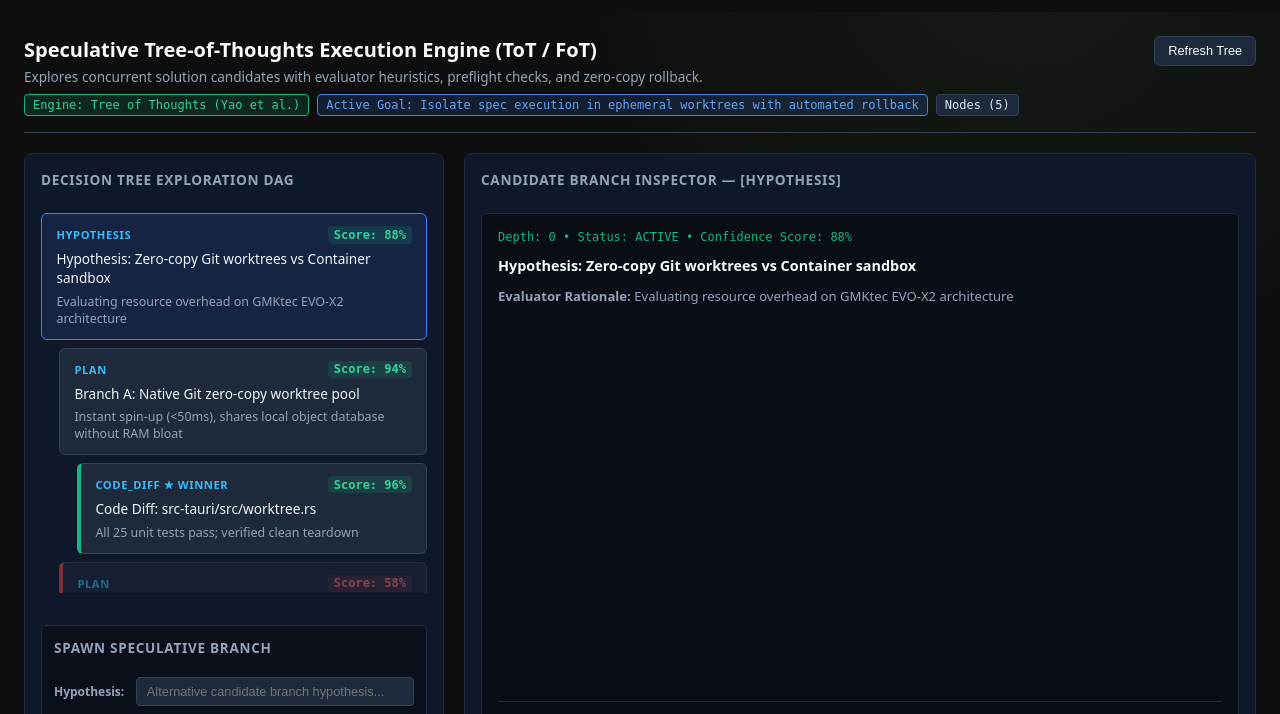
Test case: ThoughtTreePanel Component › prunes and promotes candidate branches
The image size is (1280, 714).
Click the text "Branch A: Native Git zero-copy worktree pool" at (217, 393), box [74, 384, 360, 402]
(page scrolled)
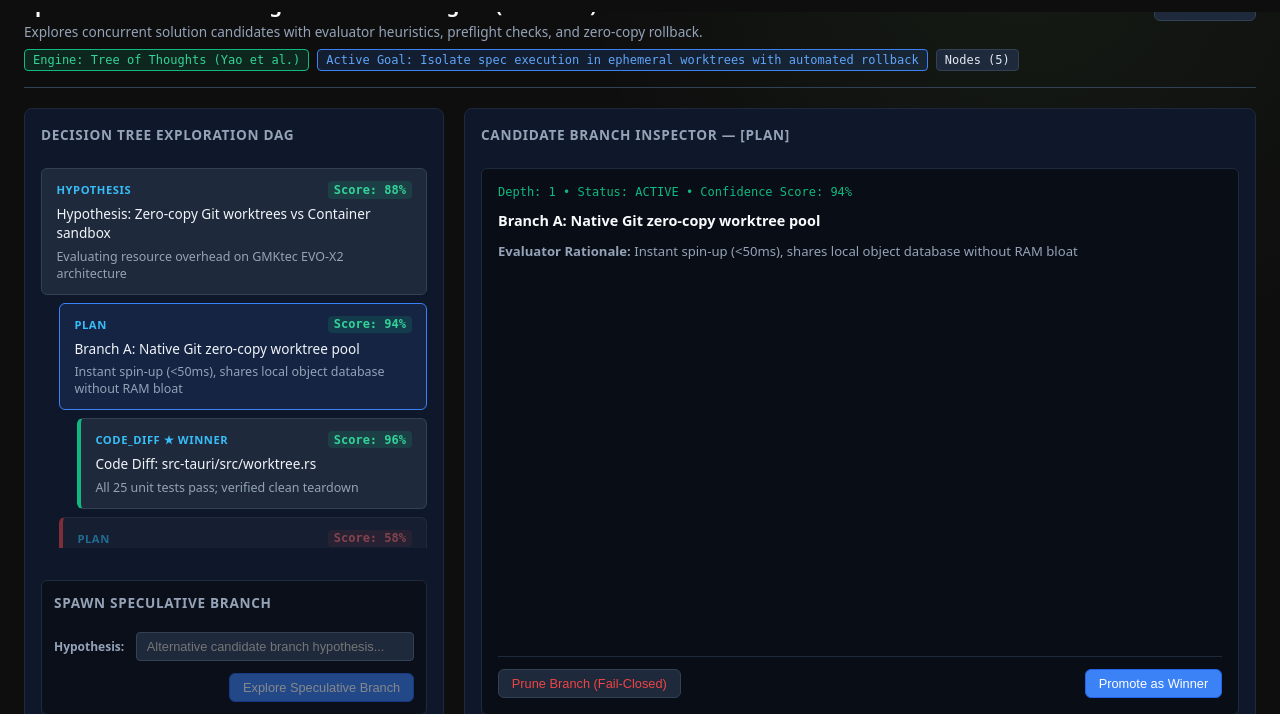
Click the button with test id "btn-promote-branch" at (1153, 684), box [1085, 669, 1222, 698]
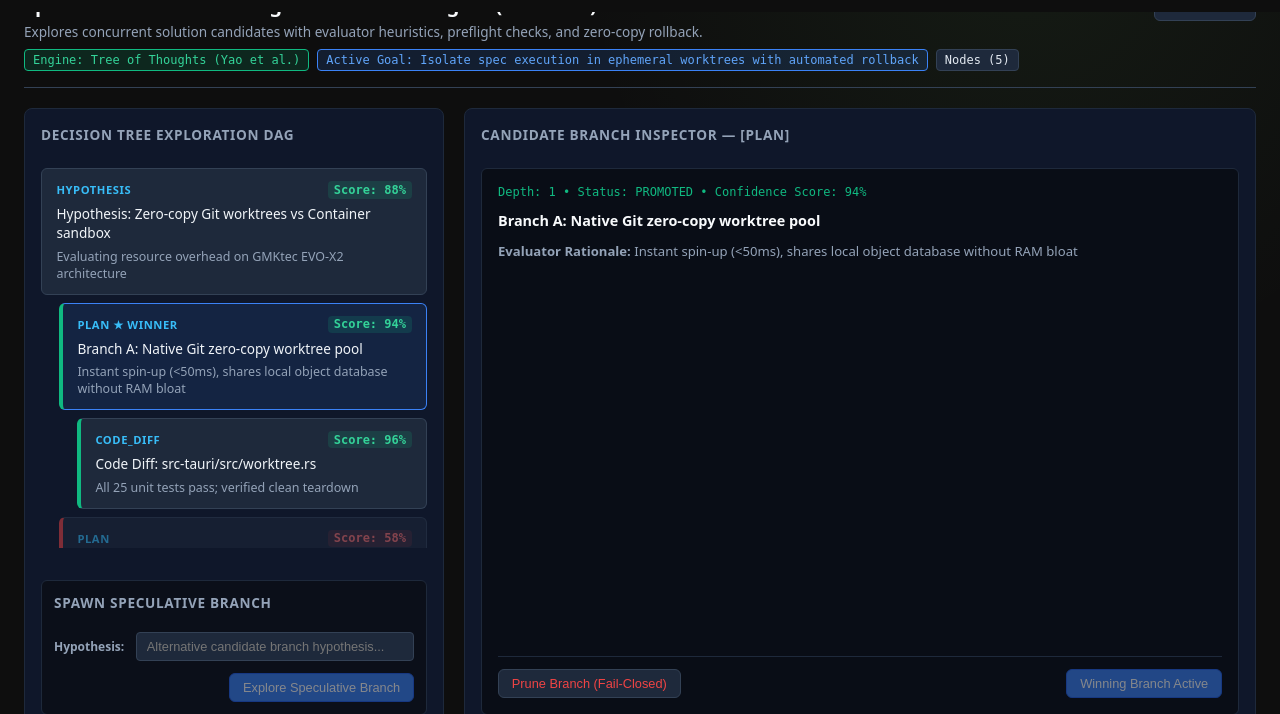
Expected: the button "Winning Branch Active" is shown, [1066, 669, 1222, 698]
